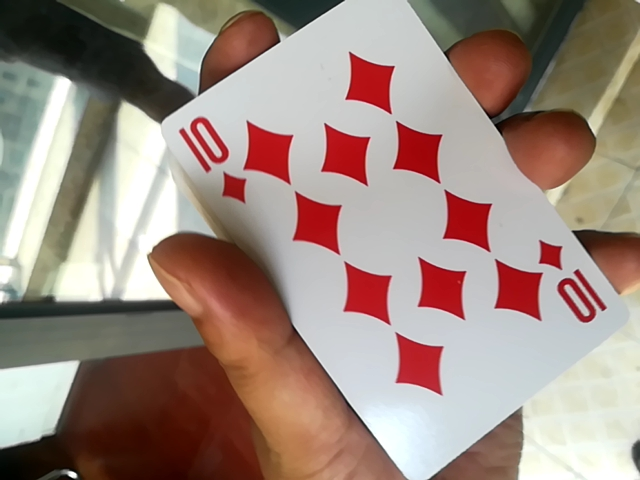fk 10: (129, 3, 619, 479)
